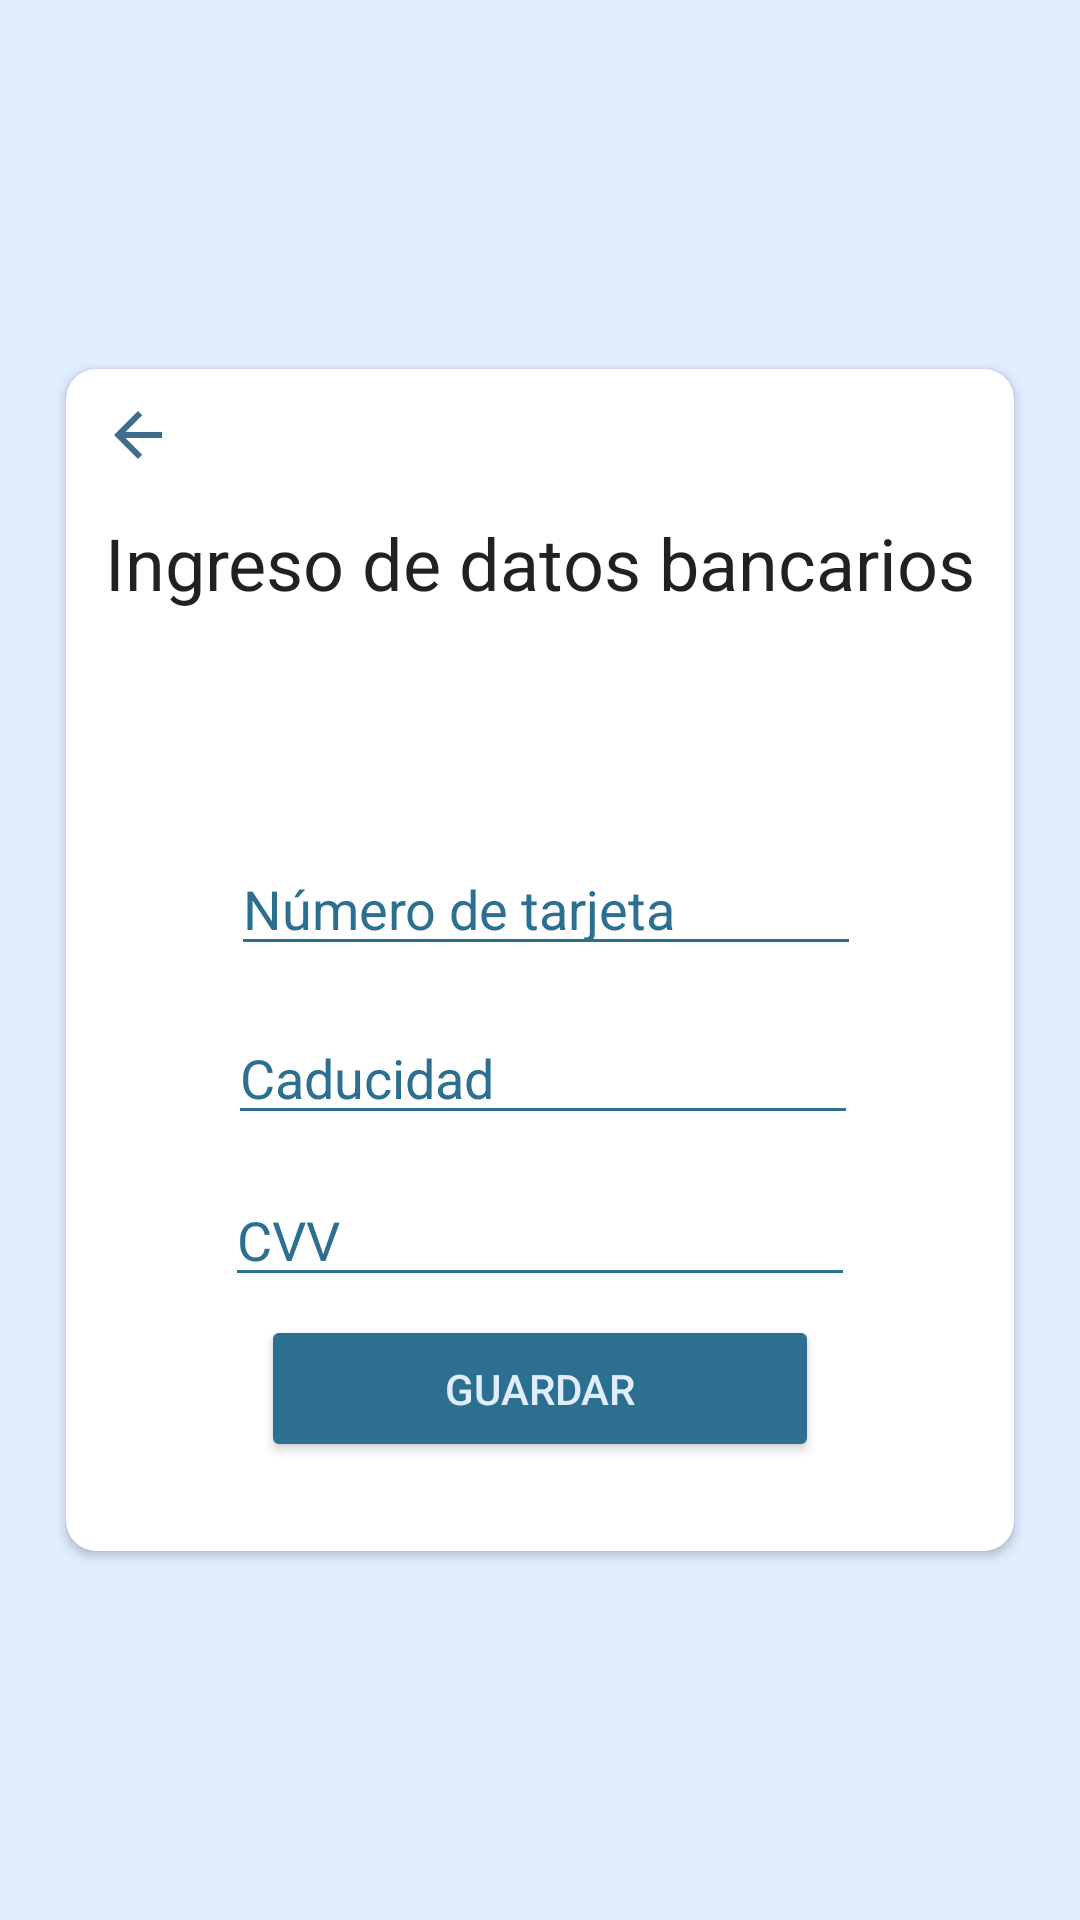

Icons on this 1080x1920 Android screen, each with its box as rect(x1, y1, x2, y2):
arrow back: rect(114, 411, 162, 459)
